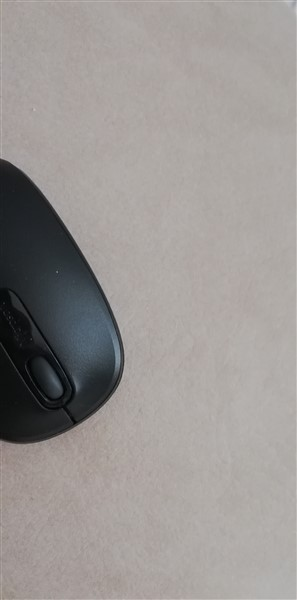mouse: (1, 152, 131, 449)
